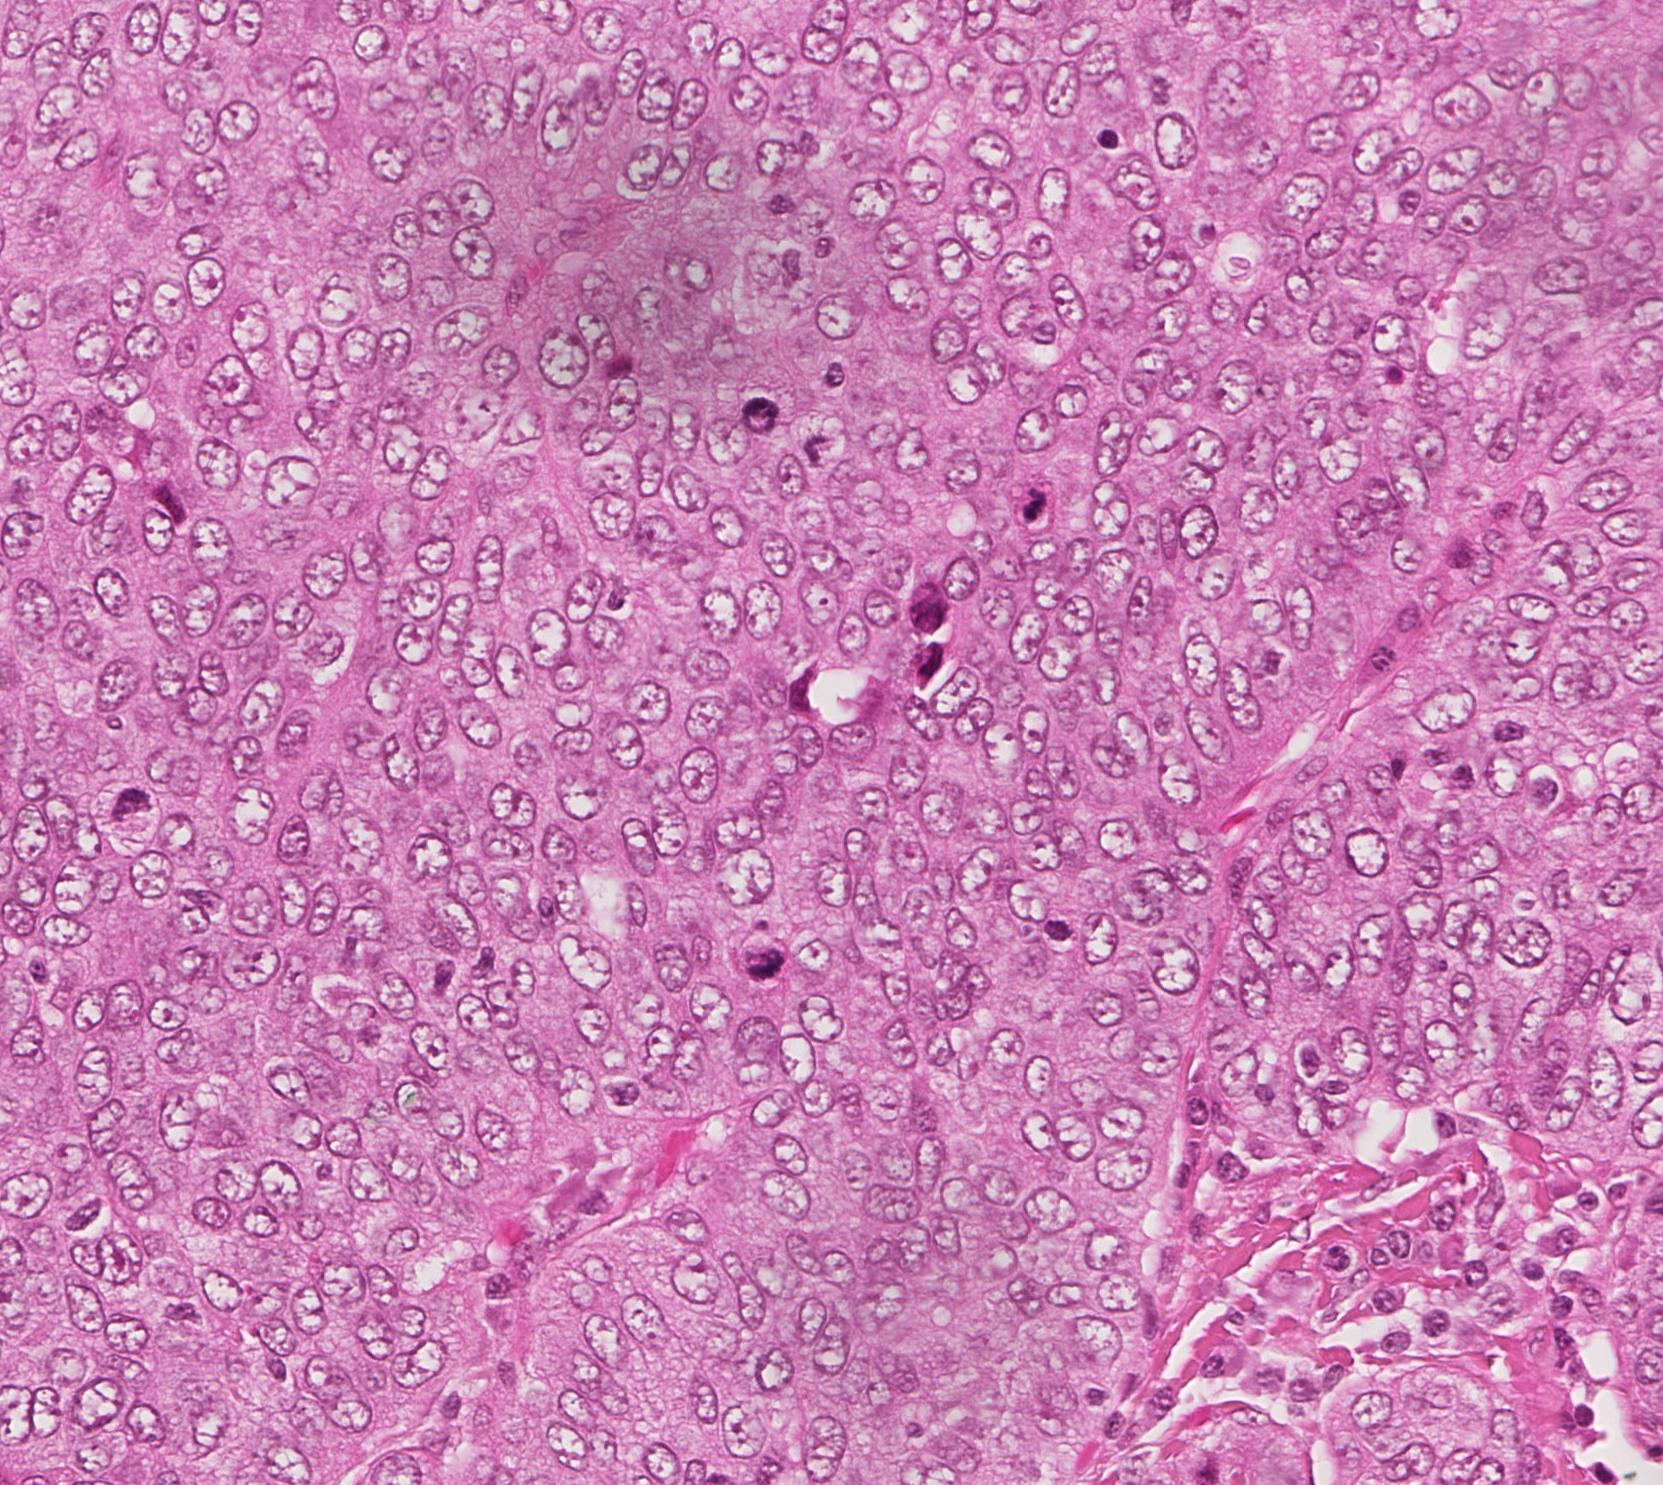mitosis: (737, 390, 797, 450), (1002, 474, 1062, 535), (97, 784, 158, 844), (735, 930, 796, 990), (787, 419, 847, 477)
